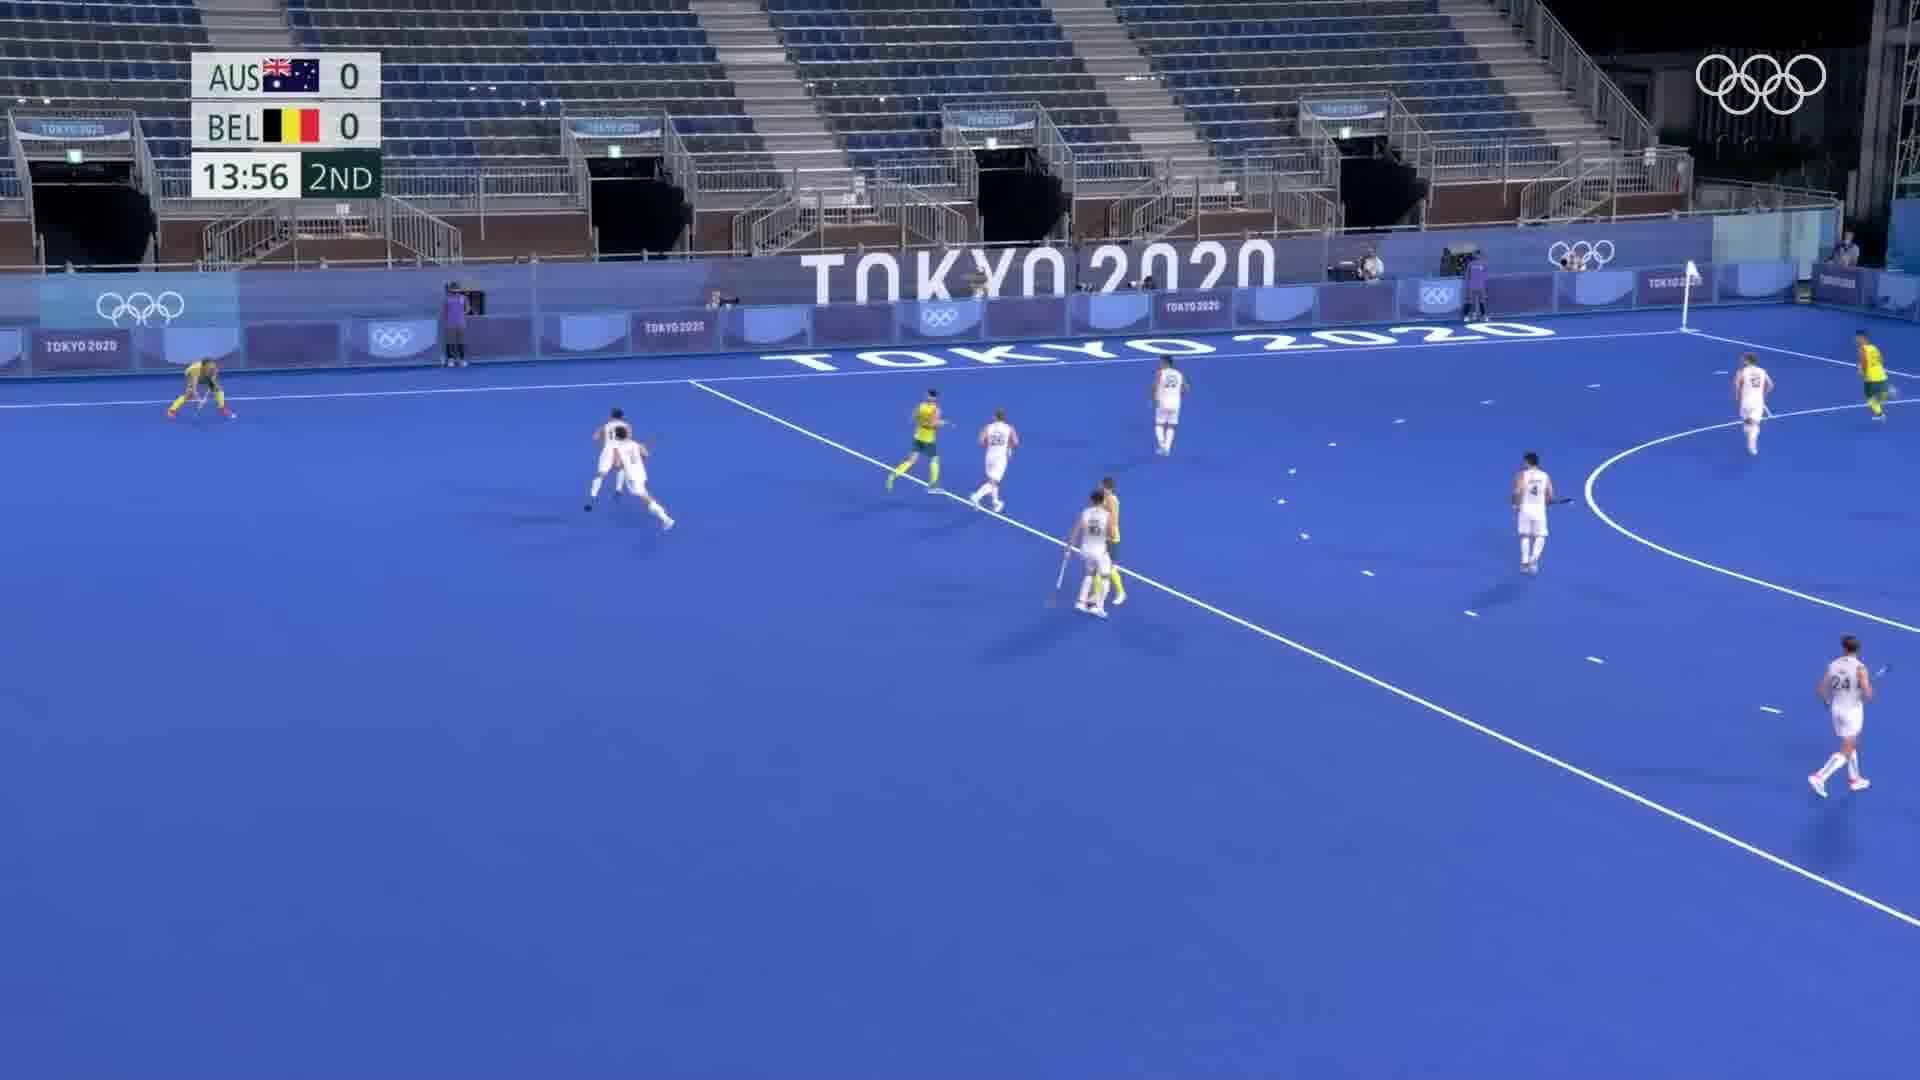ball: (225, 412, 240, 423)
